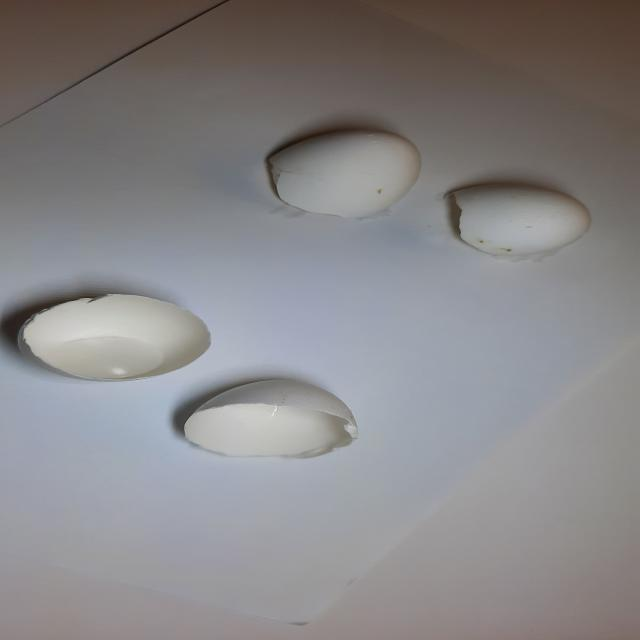egg shell: (1, 286, 223, 387), (170, 372, 369, 465), (261, 120, 428, 222), (443, 176, 600, 261)
